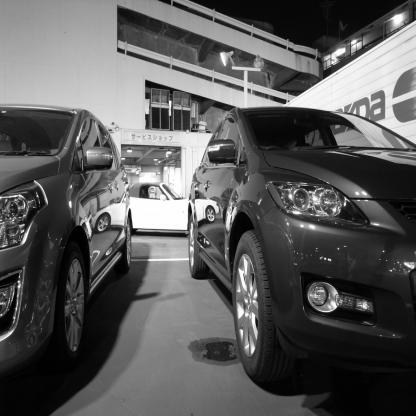Car: (187, 107, 416, 382), (0, 105, 132, 382), (129, 182, 188, 231)
